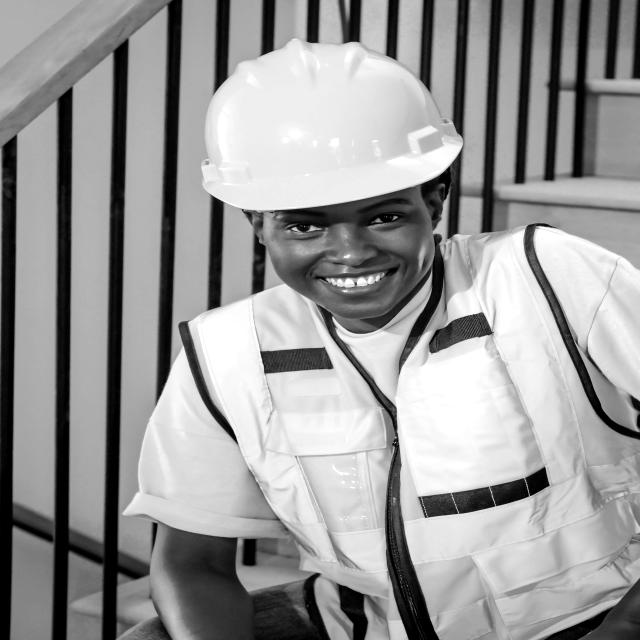Vest: (173, 223, 640, 640)
